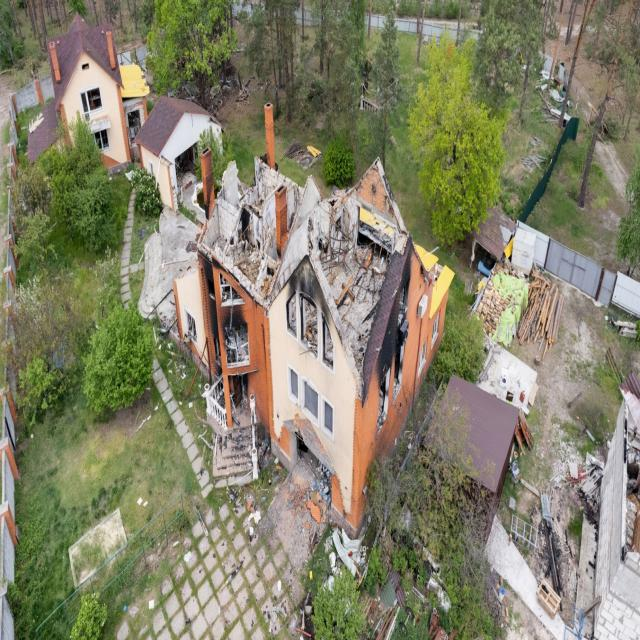broken_window: (299, 291, 318, 357), (301, 377, 319, 425), (322, 312, 334, 370), (321, 396, 334, 440), (286, 290, 297, 339), (287, 364, 299, 404)
building: (172, 116, 455, 537), (27, 11, 133, 172), (134, 93, 223, 213)
